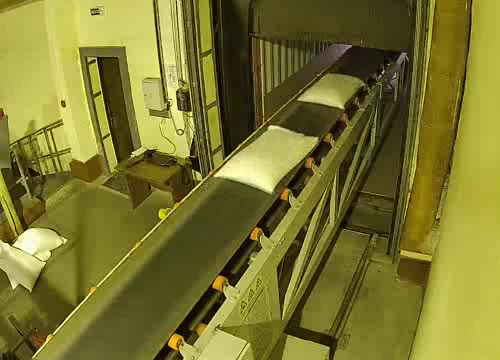bag: (213, 120, 321, 197), (295, 71, 365, 111)
